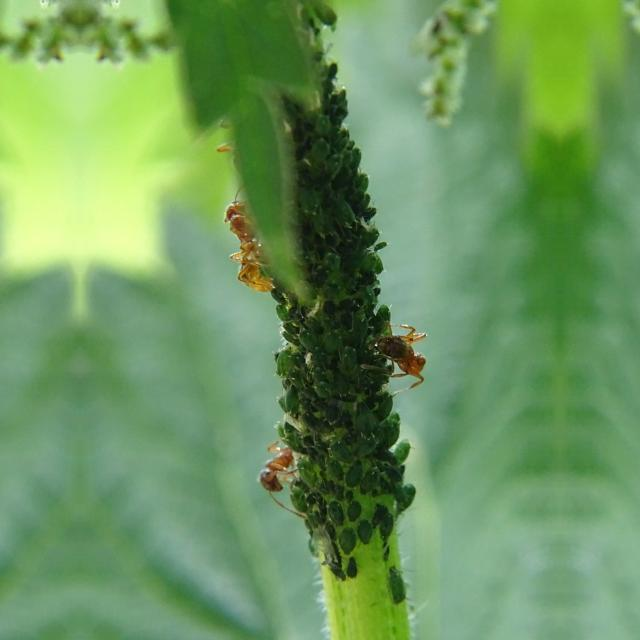Myrmica: (217, 192, 280, 308), (366, 312, 434, 396), (250, 429, 300, 508)
